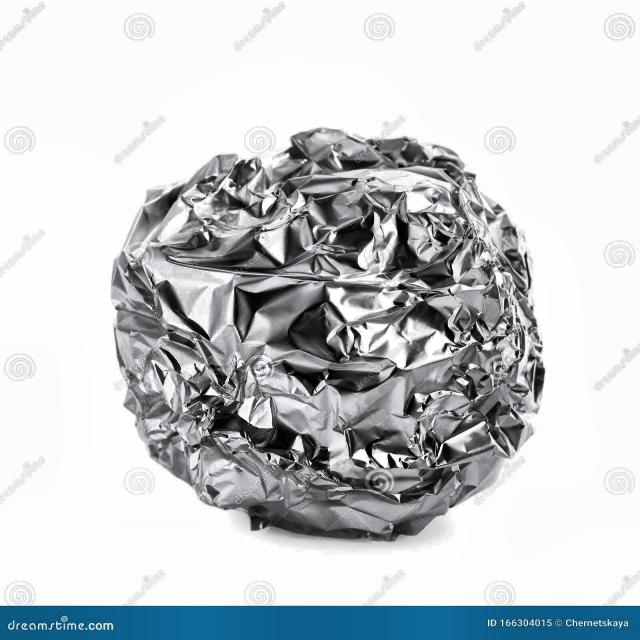Foil: (75, 89, 589, 554)
